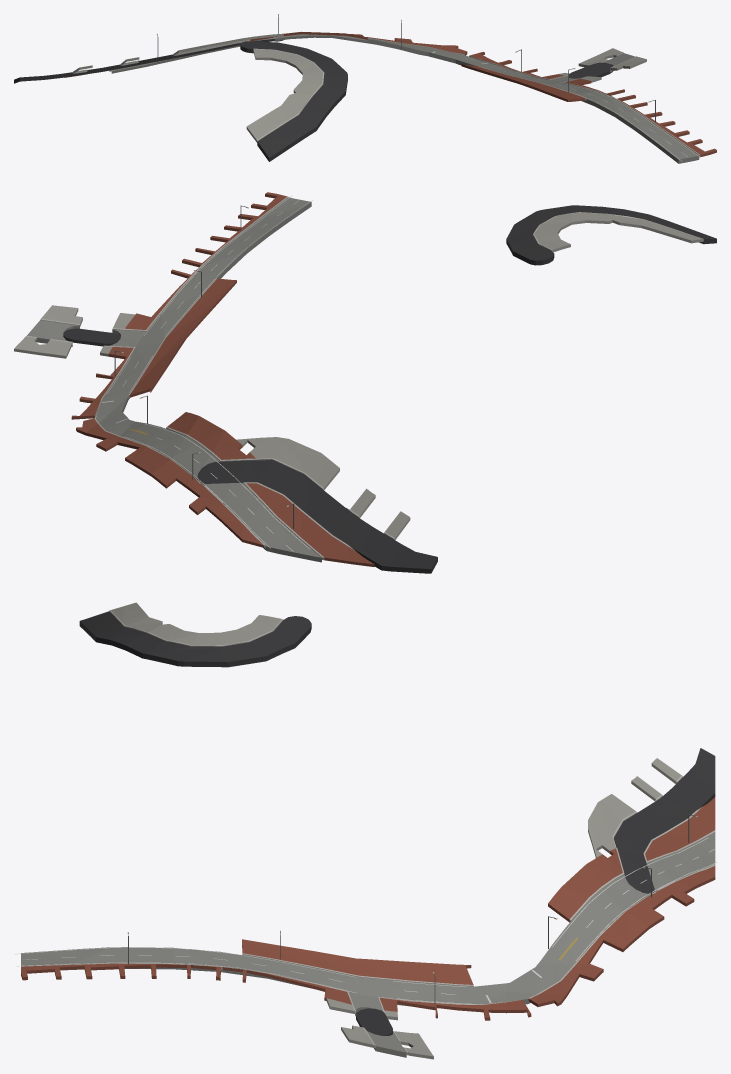
Rendered from 18-218900-118949.5130dcd6.glb.
3 renders of one model, top to bottom at view 1: azimuth 30°, elevation 25°; view 2: azimuth 150°, elevation 25°; view 3: azimuth 270°, elevation 25°, orthographic. The views are drawn at different scales.
Bounding box in the file's own units: 147 × 46.69 × 148.
